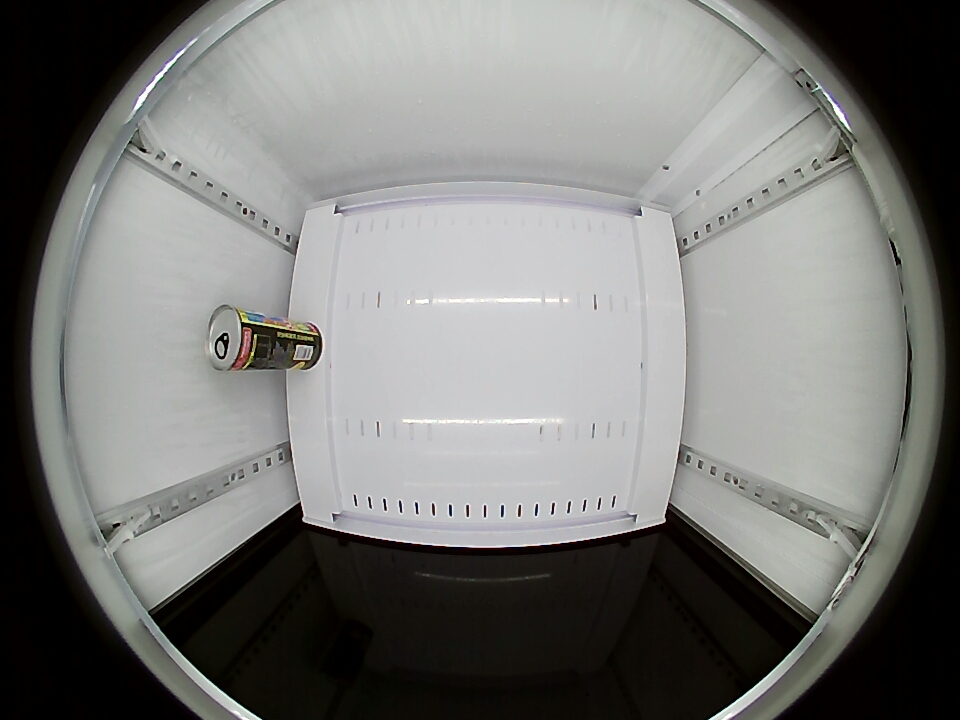yezhi: (206, 304, 263, 373)
